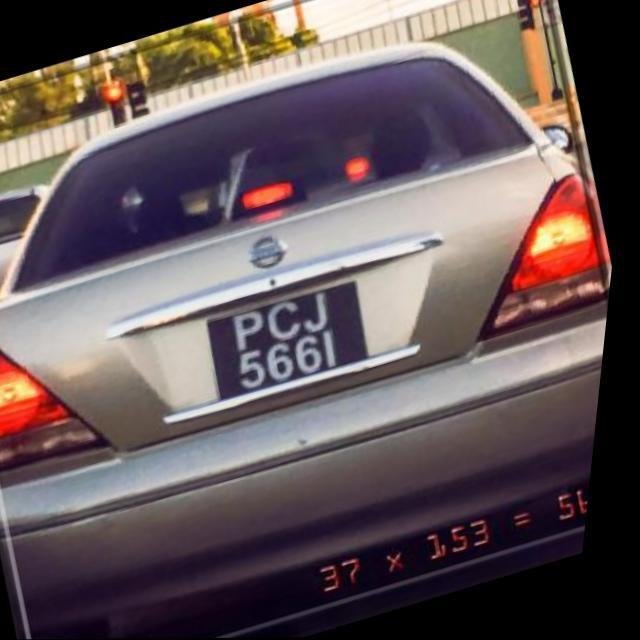license_plate: (204, 274, 386, 402)
